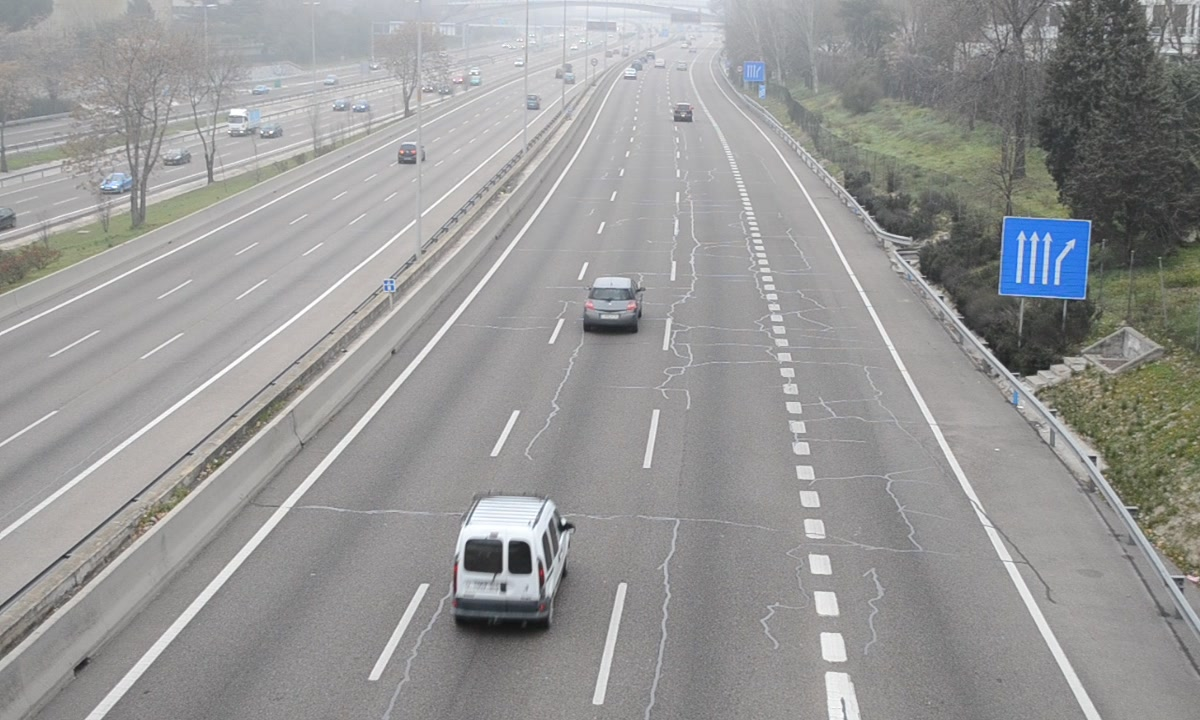car: (582, 276, 643, 329)
van: (450, 497, 572, 623)
